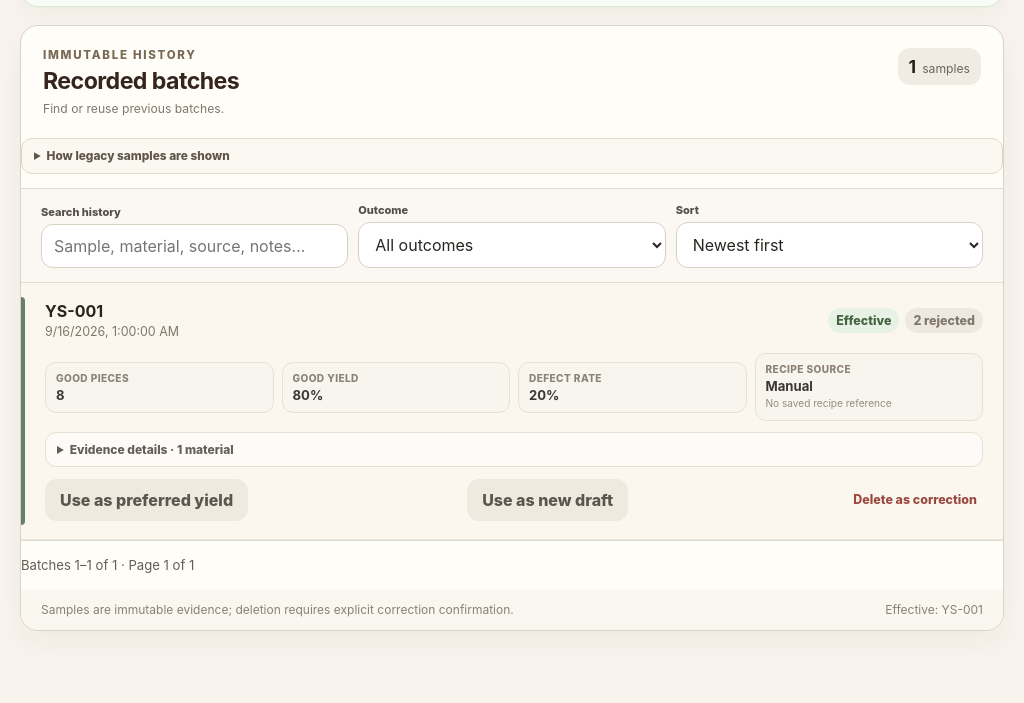
it: Yield workspace UI/UX › makes unavailable copied materials visible and requires a valid replacement
(page scrolled)
Step 1. Click the button "Use as new draft" → (548, 500), box [467,479,628,521]
(page scrolled)
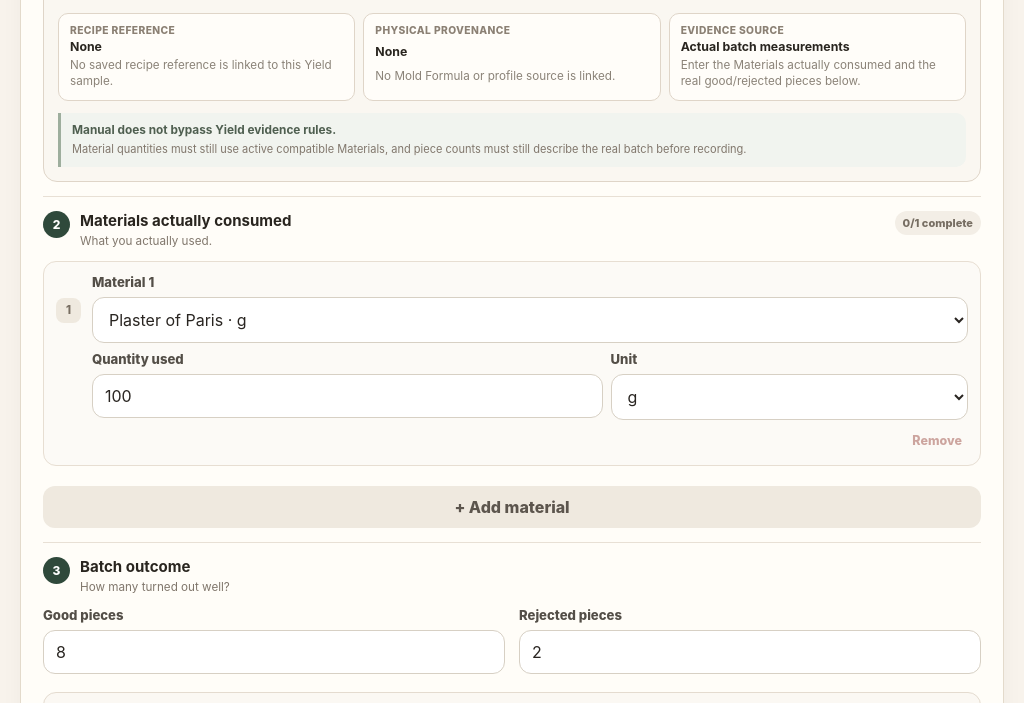
Step 2. Select "Plaster of Paris · g" in the dropdown named "Yield material 1" → (530, 320), box [92,297,968,343]
(page scrolled)
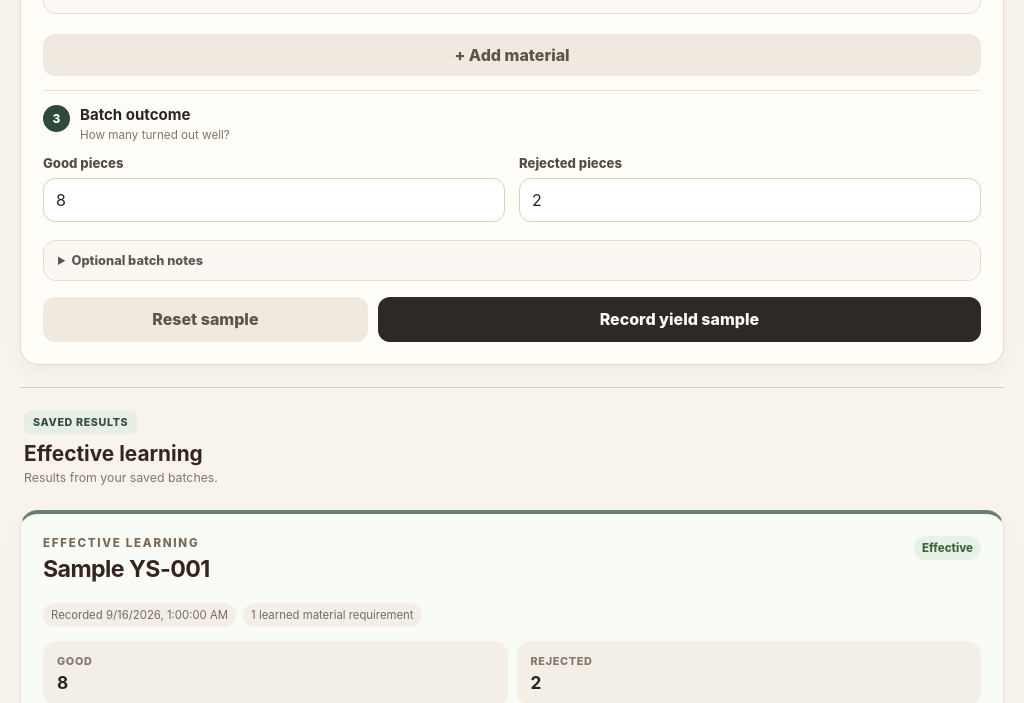
Result: the button "Record yield sample" is enabled at [378,296,981,342]
